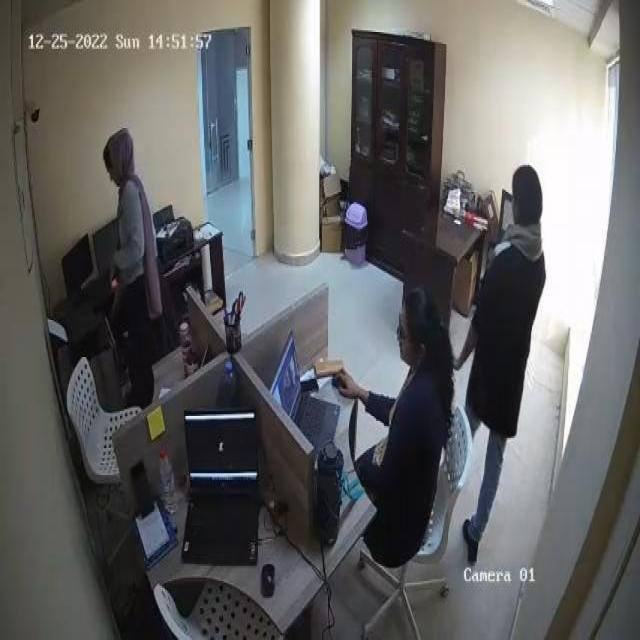bare_hand: (332, 364, 376, 408), (102, 251, 128, 290), (448, 349, 470, 377)
